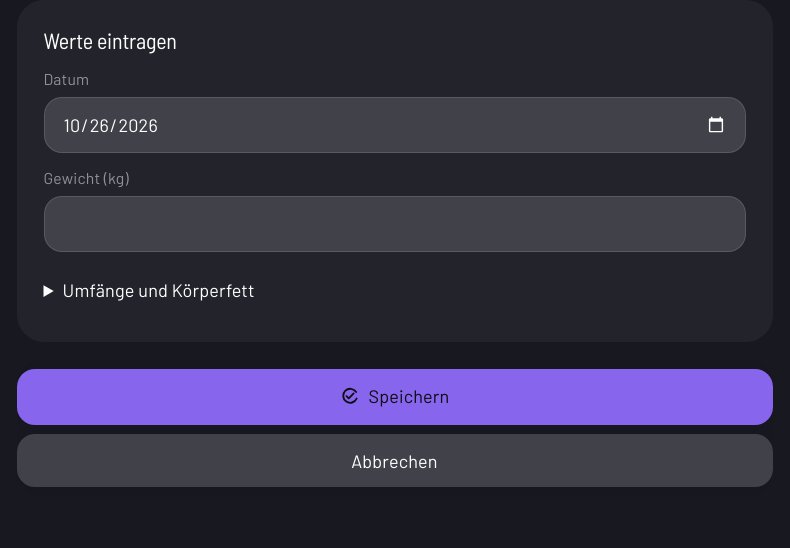
Test: BodyEntryForm › shows a message instead of closing when saving fails
The width and height of the screenshot is (790, 548).
In the number field labelled "Gewicht (kg)": point(394, 224) [44,196,746,252], type "82.5"
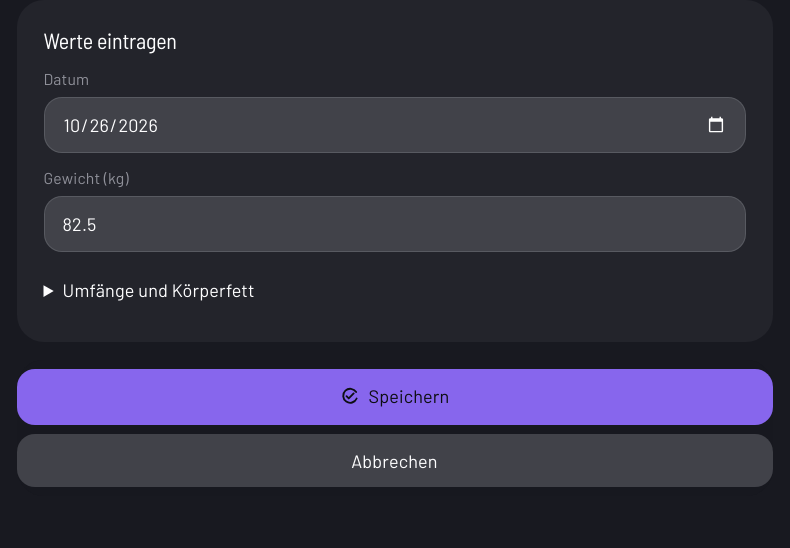
Click the button "Speichern": point(394, 397) [16,369,772,425]
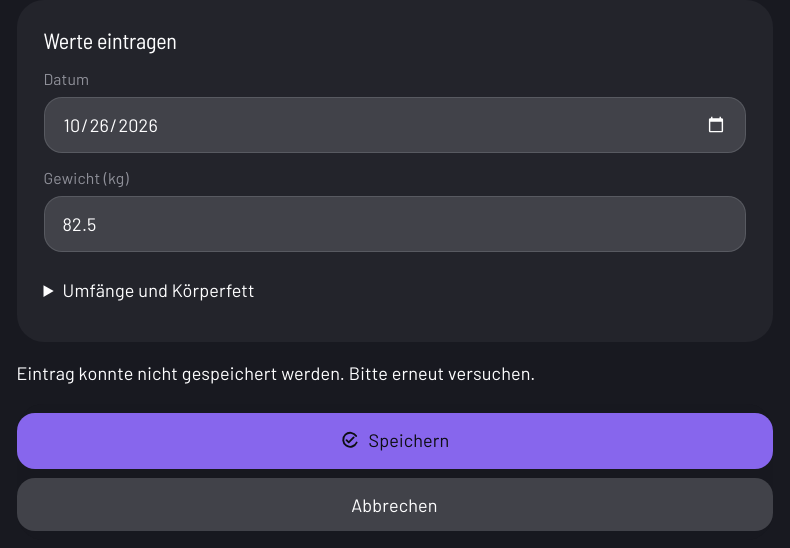
Now the message "Eintrag konnte nicht gespeichert werden. Bitte erneut versuchen." is shown, box [16,362,535,384]
